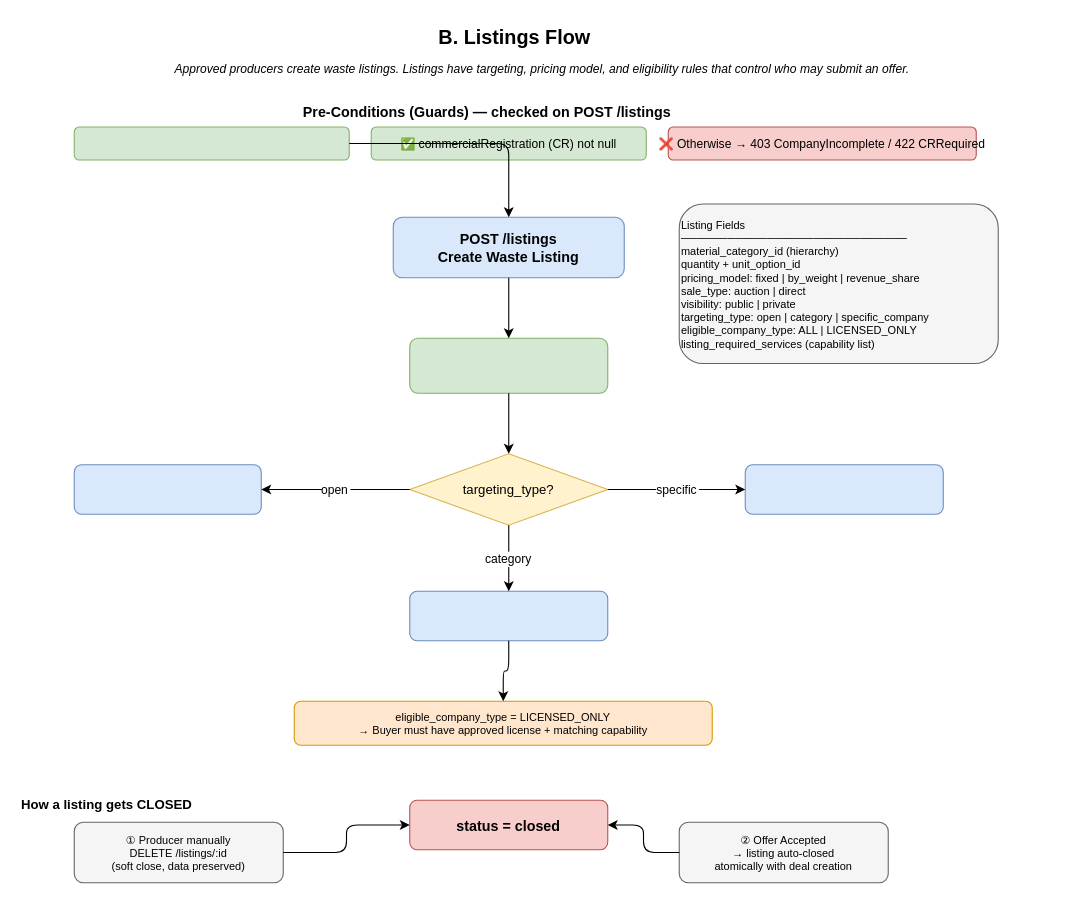
Image size: 1082x902. Some labels were removed from this diagram. Each missing label, with the centre of its shape:
"category → Matching company_category_id" goes at (508,615).
"open → All approved companies" goes at (167,489).
"specific_company → Only target_company_id" goes at (843,489).
"status = open ✅" goes at (508,365).
"✅ company.license_status = approved" goes at (211,143).
